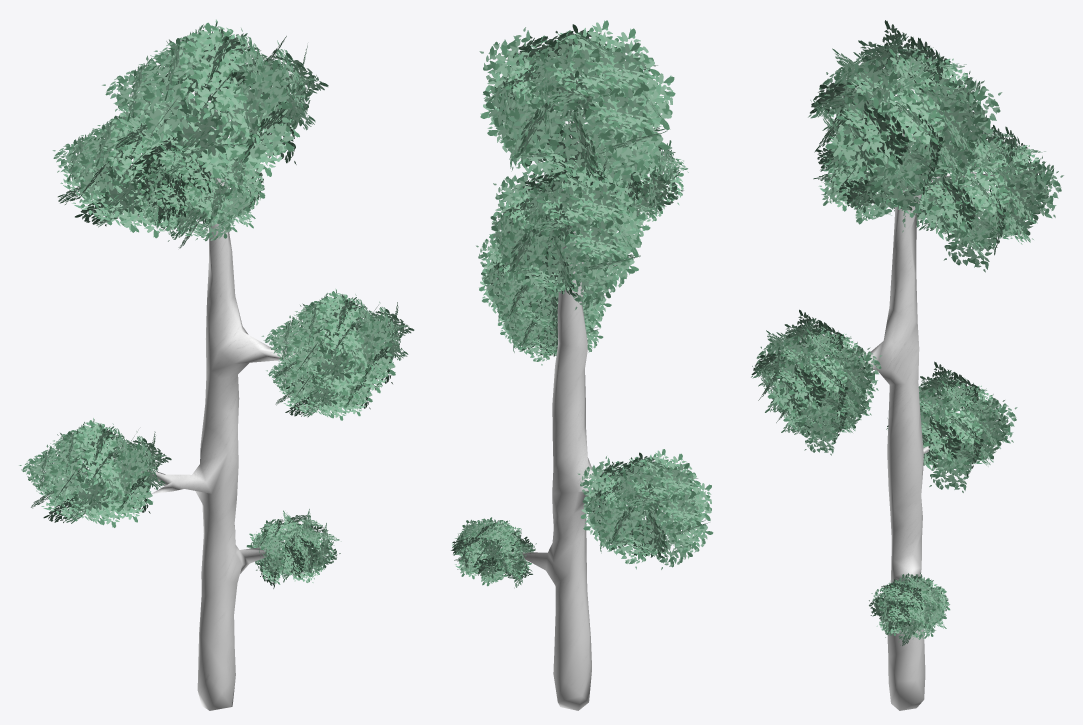
Rendered from RedWood1_V3.obj.
3 views of the same model, side by side, from view 1: azimuth 30°, elevation 25°; view 2: azimuth 150°, elevation 25°; view 3: azimuth 270°, elevation 25° (orthographic). The views are drawn at different scales.
Visible parts, largest first — view 1: Plane.003, LowPoly, Plane.000_Plane.006, Plane.001_Plane.005, Plane.004_Plane.002, Plane.002_Plane.004, Plane.055_Plane.000, Plane.005_Plane.001; view 2: Plane.003, Plane.002_Plane.004, LowPoly, Plane.000_Plane.006, Plane.055_Plane.000, Plane.001_Plane.005, Plane.004_Plane.002, Plane.005_Plane.001; view 3: Plane.003, LowPoly, Plane.002_Plane.004, Plane.001_Plane.005, Plane.000_Plane.006, Plane.055_Plane.000, Plane.004_Plane.002, Plane.005_Plane.001.
Part boxes in pixels (left/top/right/bottom): Plane.003: left=102, top=19, right=328, bottom=178; LowPoly: left=113, top=109, right=297, bottom=710; Plane.000_Plane.006: left=19, top=418, right=171, bottom=527; Plane.001_Plane.005: left=261, top=288, right=414, bottom=398; Plane.004_Plane.002: left=132, top=136, right=265, bottom=248; Plane.002_Plane.004: left=52, top=102, right=208, bottom=238; Plane.055_Plane.000: left=246, top=509, right=341, bottom=588; Plane.005_Plane.001: left=266, top=334, right=382, bottom=420; Plane.003: left=479, top=20, right=675, bottom=194; Plane.002_Plane.004: left=489, top=164, right=650, bottom=309; LowPoly: left=512, top=119, right=617, bottom=710; Plane.000_Plane.006: left=577, top=449, right=713, bottom=569; Plane.055_Plane.000: left=451, top=517, right=536, bottom=588; Plane.001_Plane.005: left=476, top=228, right=611, bottom=341; Plane.004_Plane.002: left=542, top=125, right=688, bottom=225; Plane.005_Plane.001: left=497, top=283, right=603, bottom=365; Plane.003: left=808, top=20, right=1002, bottom=215; LowPoly: left=842, top=133, right=995, bottom=710; Plane.002_Plane.004: left=913, top=125, right=1063, bottom=272; Plane.001_Plane.005: left=751, top=309, right=882, bottom=441; Plane.000_Plane.006: left=886, top=361, right=1017, bottom=492; Plane.055_Plane.000: left=869, top=572, right=950, bottom=645; Plane.004_Plane.002: left=813, top=120, right=939, bottom=232; Plane.005_Plane.001: left=771, top=357, right=874, bottom=455.
Bounding box in the file's own units: 42.45 × 90.63 × 39.41.
